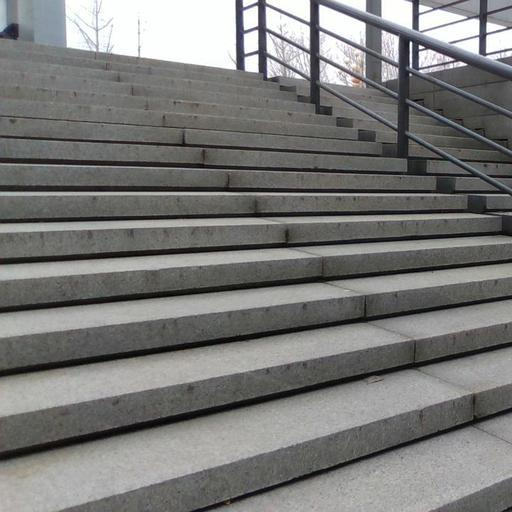stairs: (0, 42, 511, 511)
